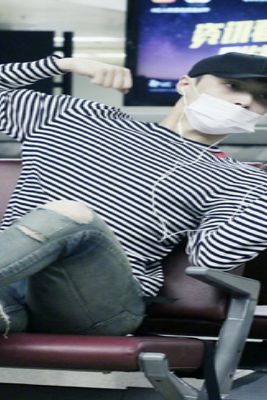mask_weared_incorrect: (188, 77, 266, 133)
